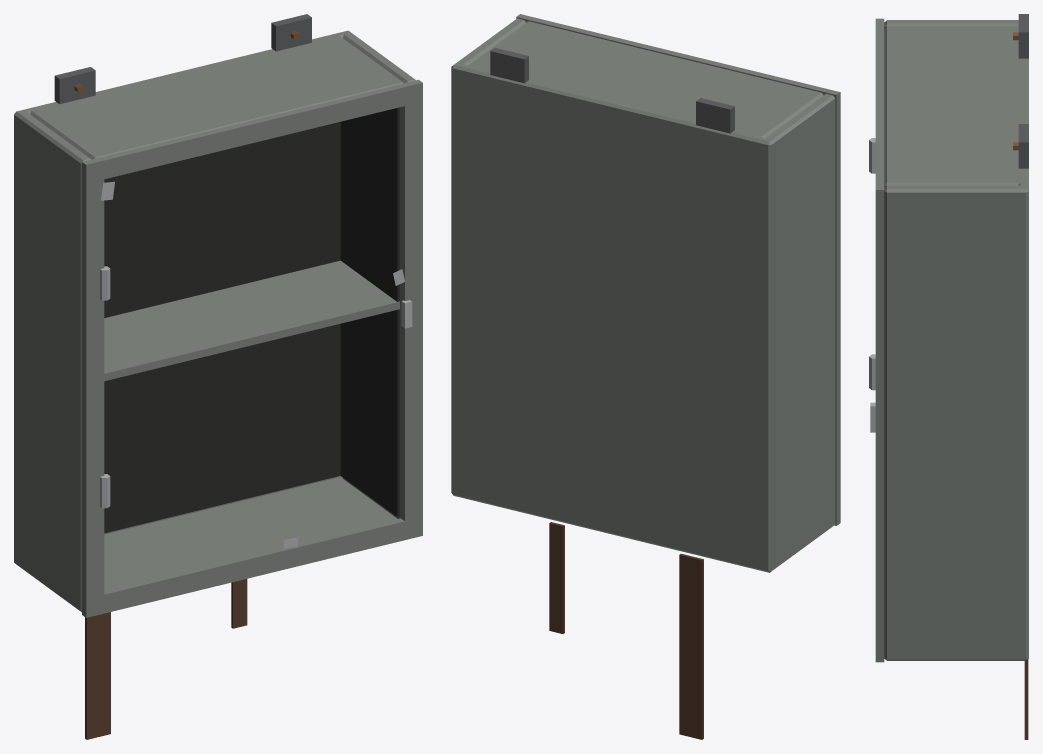
File: Startle_CabinetShell.fbx
3 views of the same model, side by side, from view 1: azimuth 30°, elevation 25°; view 2: azimuth 150°, elevation 25°; view 3: azimuth 270°, elevation 25° (orthographic). The views are drawn at different scales.
Parts seen in each view (by area): view 1: Startle_CabinetShell; view 2: Startle_CabinetShell; view 3: Startle_CabinetShell.
Boxes of the visible parts, x1,y1,x2,y2 form: Startle_CabinetShell: [14, 14, 422, 739]; Startle_CabinetShell: [451, 14, 840, 739]; Startle_CabinetShell: [869, 14, 1028, 739].
Bounding box in the file's own units: 56 × 106 × 22.1.
